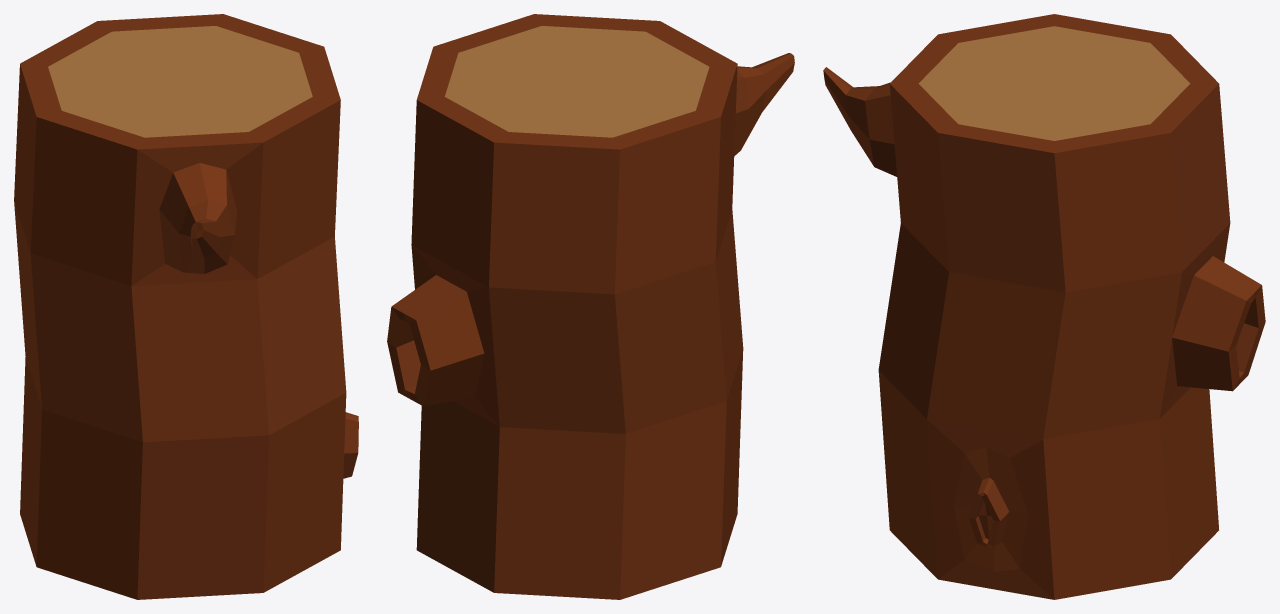
File: Brevno_Remade.fbx
3 renders of one model, left to right at view 1: azimuth 30°, elevation 25°; view 2: azimuth 150°, elevation 25°; view 3: azimuth 270°, elevation 25°, orthographic.
Visible parts, largest first — view 1: Cylinder; view 2: Cylinder; view 3: Cylinder.
Part boxes in pixels (x1,y1,x2,y2): Cylinder: (14, 14, 358, 599); Cylinder: (387, 14, 794, 599); Cylinder: (823, 14, 1265, 599).
Size of the model in its own units: 2 by 2.99 by 2.69.
